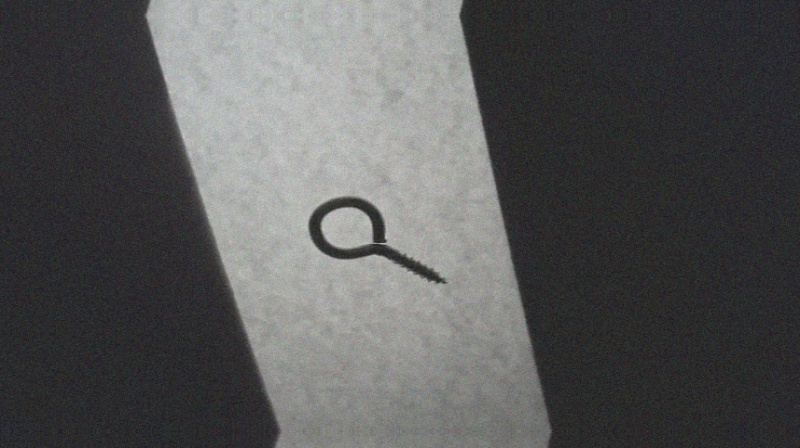O001: (305, 194, 451, 287)
